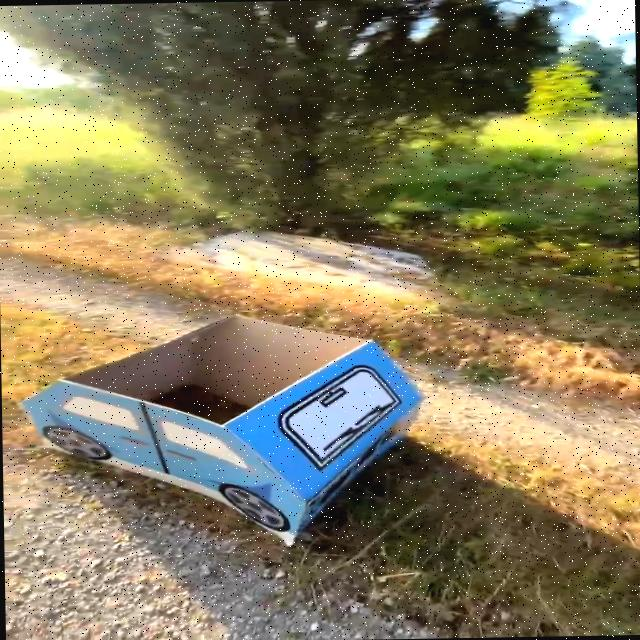blue_car: (4, 311, 503, 586)
